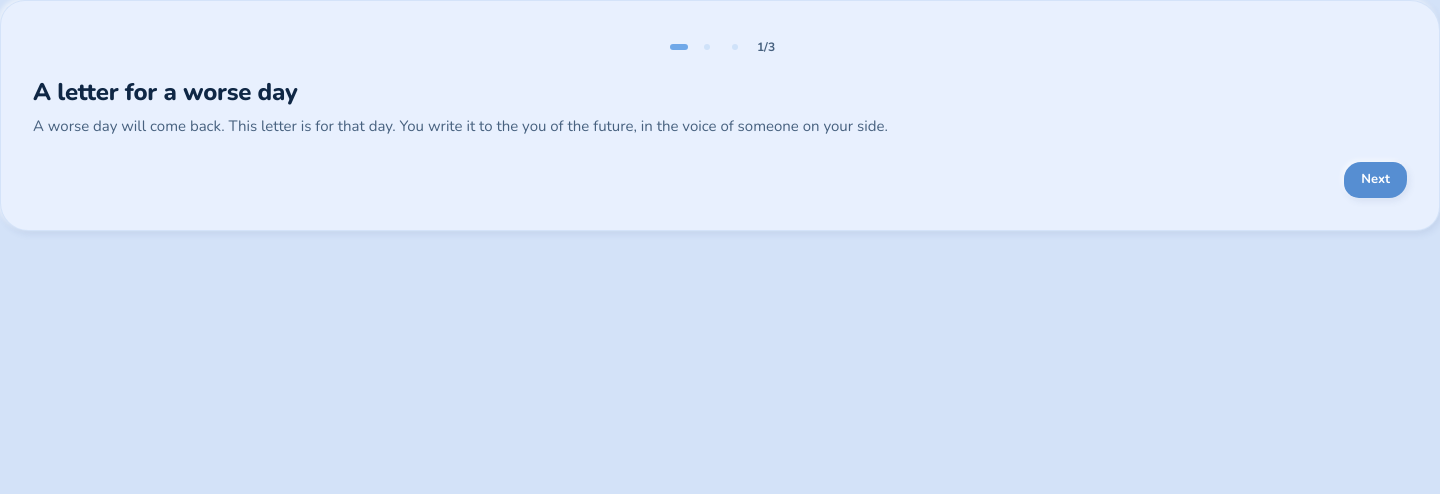
MicroExerciseRunner v3 features › a soft minimum shows a counter and a note but never blocks
This screenshot has width=1440, height=494.
Click the button "Next".
click(1376, 180)  # box [1344,162,1407,198]
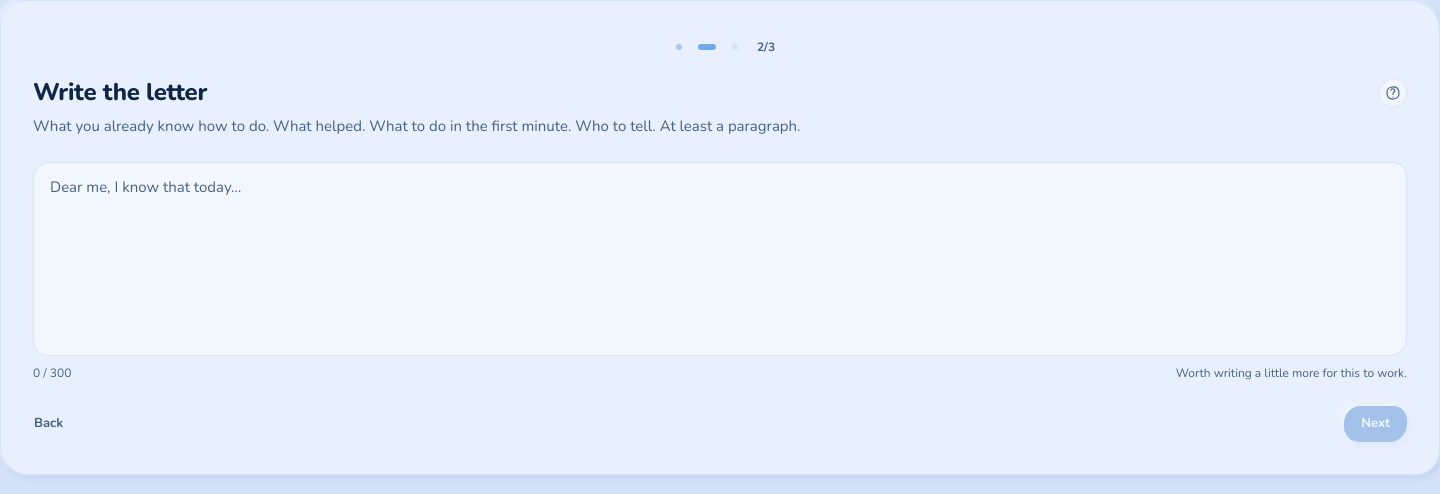
Expected: the element with test id "micro-minlength" shows "0 / 300", [33,364,71,380]
Expected: the element with test id "micro-minlength" shows "Worth writing a little more", [1176,364,1407,380]
Type "short" into the text box with placeholder "Dear me, I know that today…".
click(720, 258); type("short")  # box [33,162,1407,356]
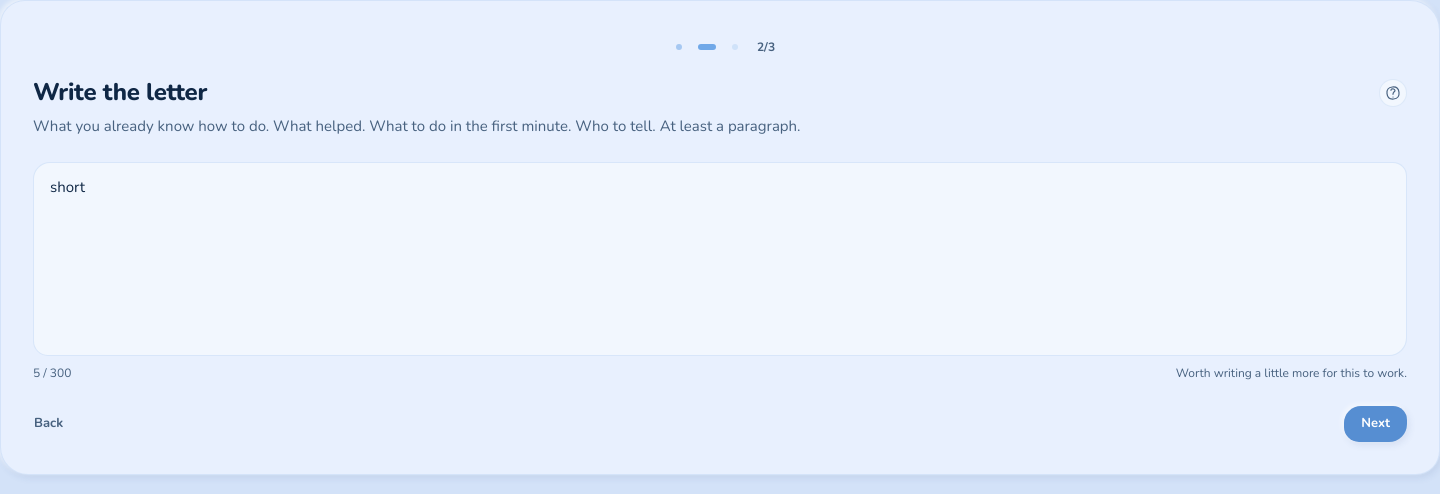
Expected: the element with test id "micro-minlength" shows "5 / 300", [33,364,71,380]
Expected: the button "Next" is enabled, [1344,406,1407,442]
